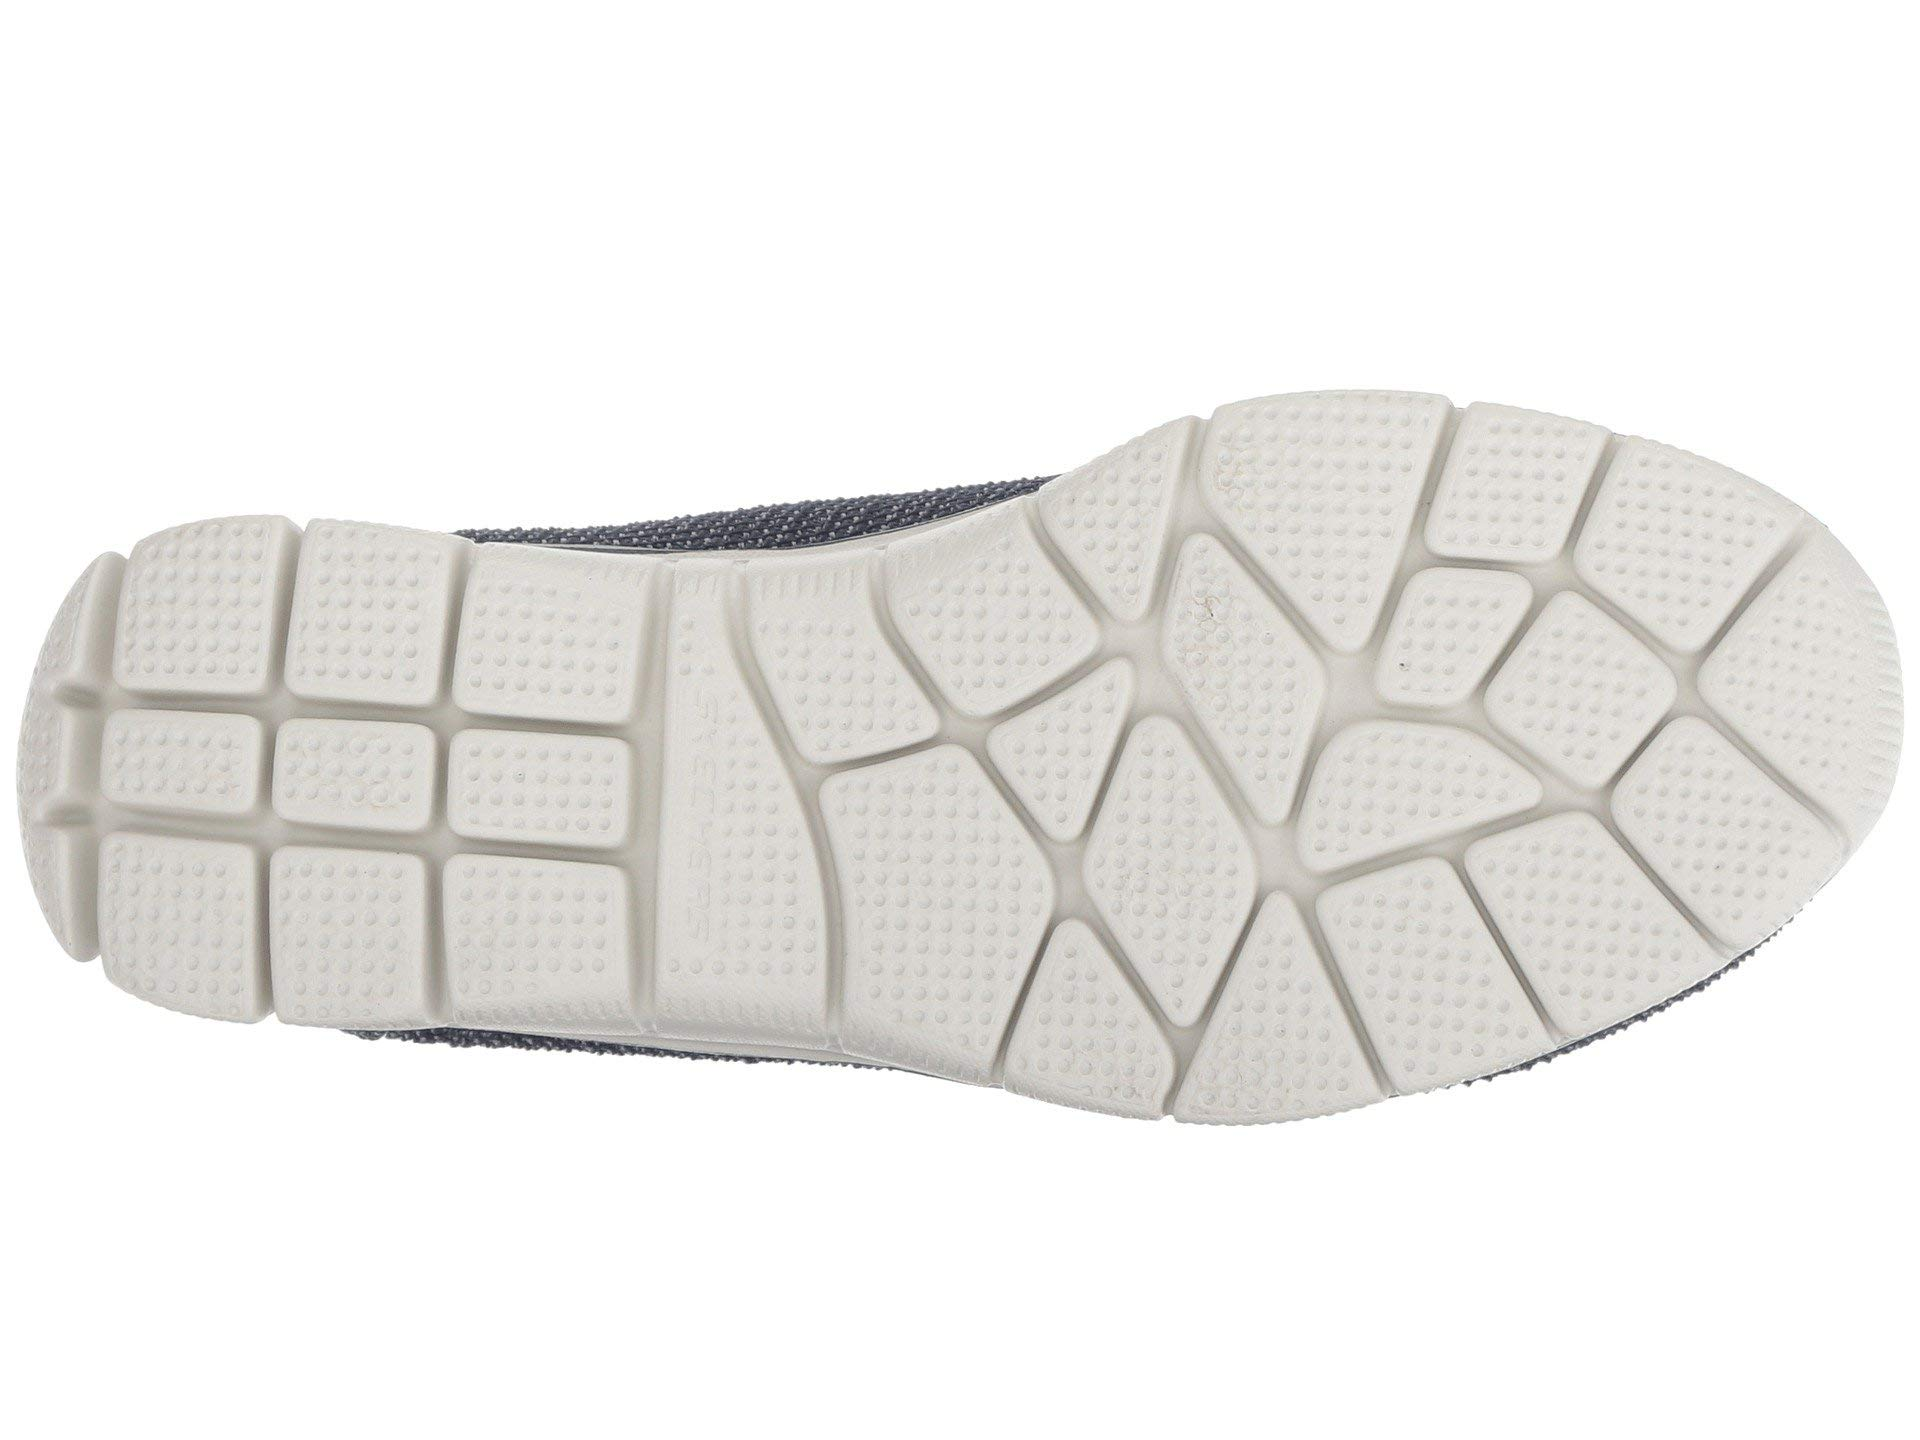circle: (952, 632, 1287, 1032), (98, 699, 667, 855)
quad: (952, 632, 1287, 1032), (98, 699, 667, 855)
triangle: (952, 632, 1287, 1032)
